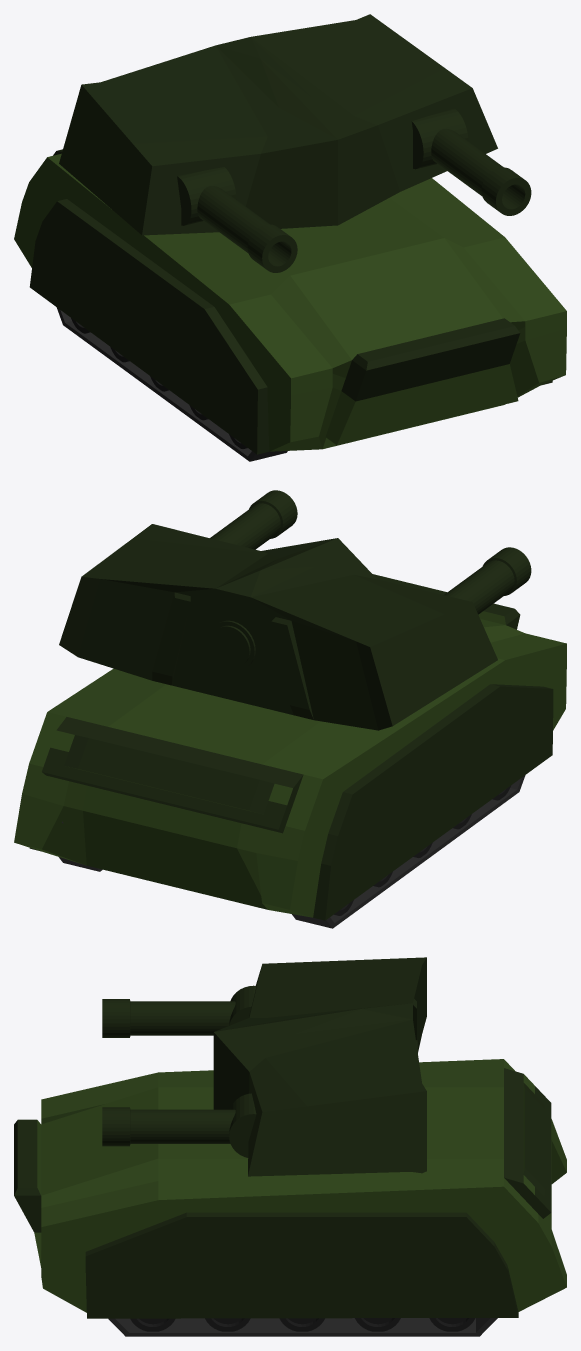
The model's file is tier2.obj.
The picture shows the model from 3 angles, top to bottom: view 1: azimuth 30°, elevation 25°; view 2: azimuth 150°, elevation 25°; view 3: azimuth 270°, elevation 25°; orthographic projection. The views are drawn at different scales.
Parts seen in each view (by area): view 1: Body11_Cube.034, Turret11_Cube.052, Main_Gun11_Cube.057, Tracks11_Cube.033; view 2: Body11_Cube.034, Turret11_Cube.052, Main_Gun11_Cube.057, Tracks11_Cube.033; view 3: Body11_Cube.034, Turret11_Cube.052, Main_Gun11_Cube.057, Tracks11_Cube.033, Road_Wheels11_Cube.035.
Boxes of the visible parts, bbox=[...] form: Body11_Cube.034: bbox=[14, 149, 566, 454]; Turret11_Cube.052: bbox=[59, 14, 497, 235]; Main_Gun11_Cube.057: bbox=[177, 108, 531, 272]; Tracks11_Cube.033: bbox=[56, 307, 287, 461]; Body11_Cube.034: bbox=[14, 574, 566, 920]; Turret11_Cube.052: bbox=[59, 524, 497, 730]; Main_Gun11_Cube.057: bbox=[210, 490, 531, 614]; Tracks11_Cube.033: bbox=[59, 775, 525, 928]; Body11_Cube.034: bbox=[14, 1059, 566, 1318]; Turret11_Cube.052: bbox=[213, 957, 426, 1176]; Main_Gun11_Cube.057: bbox=[102, 985, 256, 1157]; Tracks11_Cube.033: bbox=[108, 1318, 497, 1336]; Road_Wheels11_Cube.035: bbox=[130, 1318, 475, 1331].
Size of the model in its own units: 4.65 by 3.49 by 6.59.
